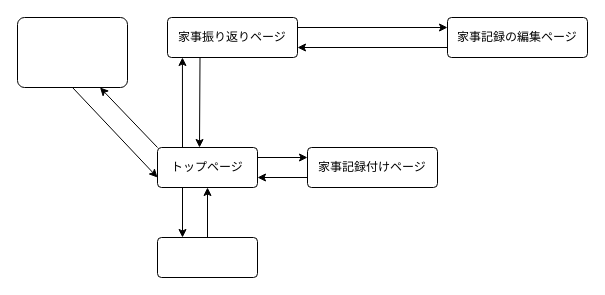
Some shapes in this 605 by 295 pixel diagram are drawn without their labels. Here are the shapes that lost their labels. From the top down, the box of each, then its label:
(16, 16, 128, 88): 新規登録/ログインページ
(156, 236, 258, 278): ペア作成ページ
